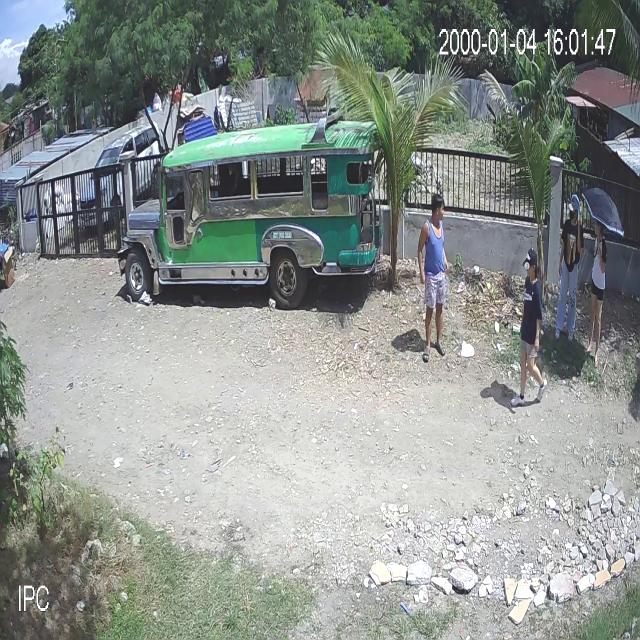standing: (416, 193, 456, 362), (554, 194, 586, 344), (584, 220, 612, 368)
walking: (509, 249, 551, 405)
